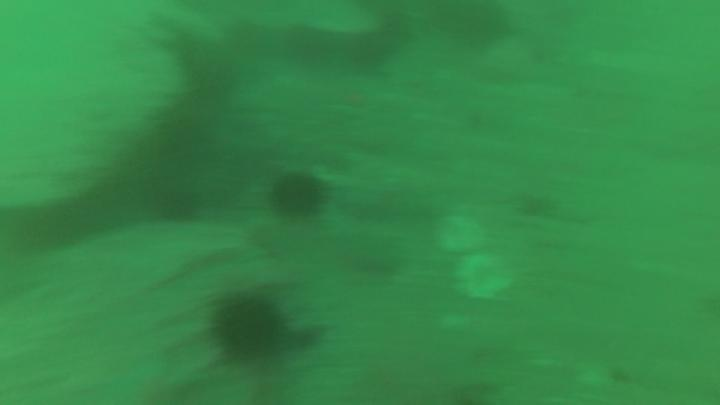echinus: (217, 298, 280, 358), (273, 174, 323, 216)
scallop: (455, 250, 514, 303)
